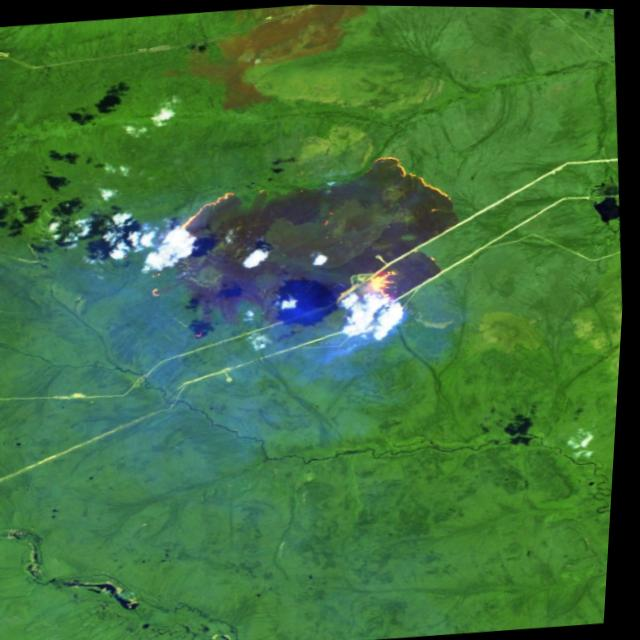fire: (131, 144, 480, 343)
